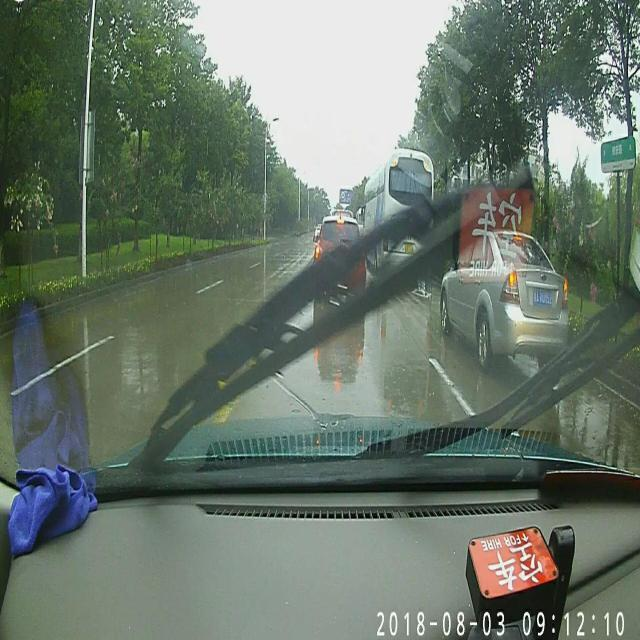car: (440, 228, 564, 357), (313, 214, 366, 300)
